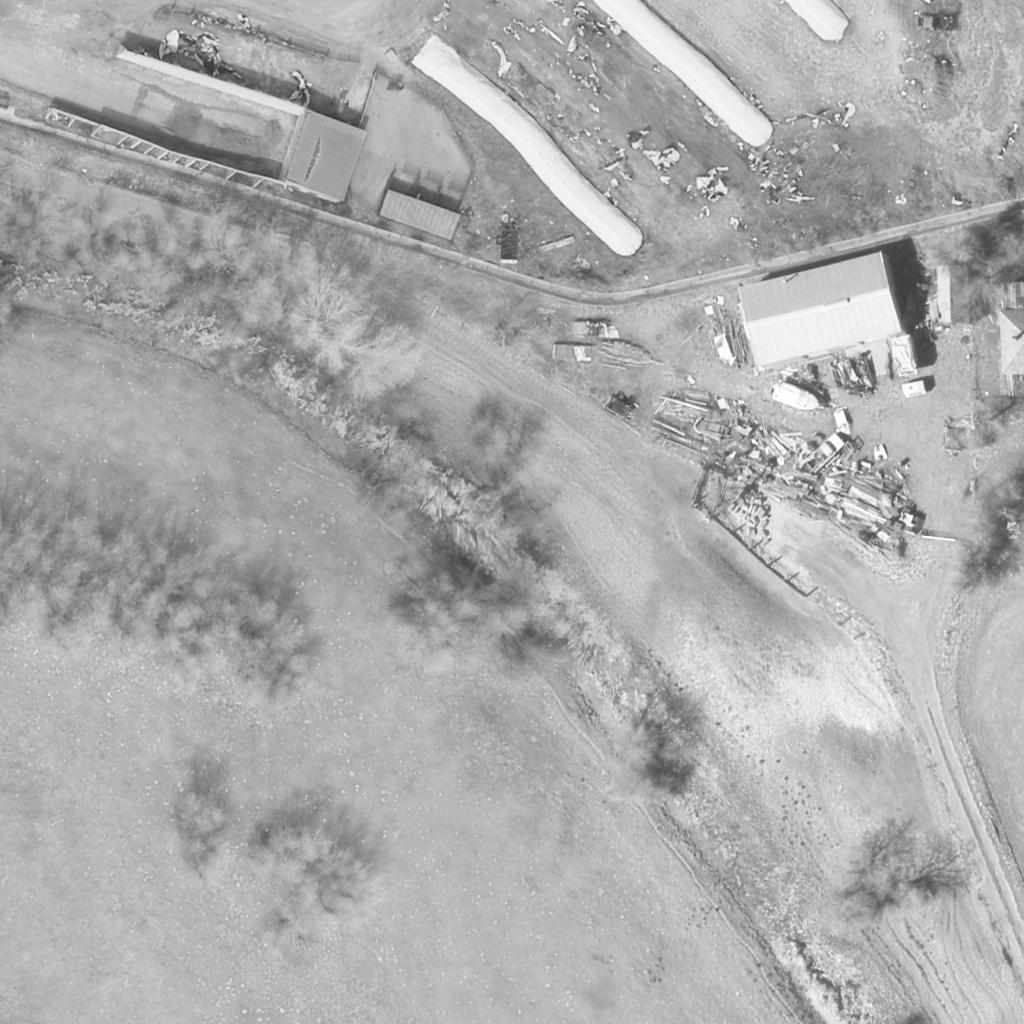vehicle: (804, 434, 846, 478), (770, 380, 820, 416)
